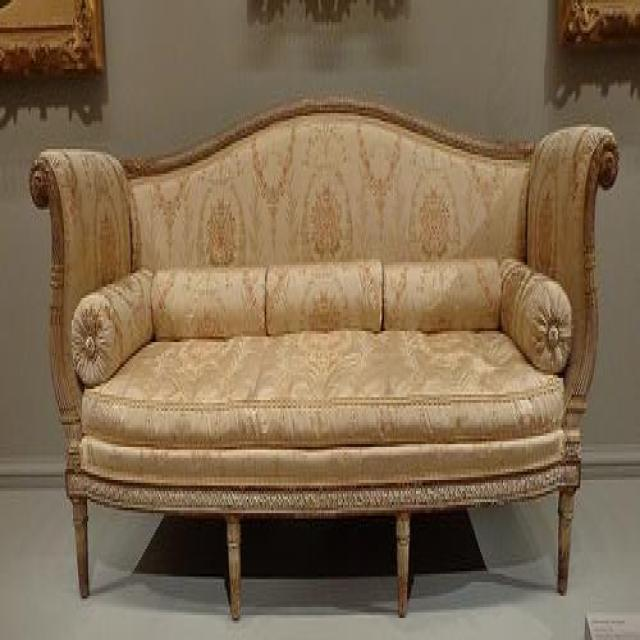sofa: (28, 94, 618, 618)
